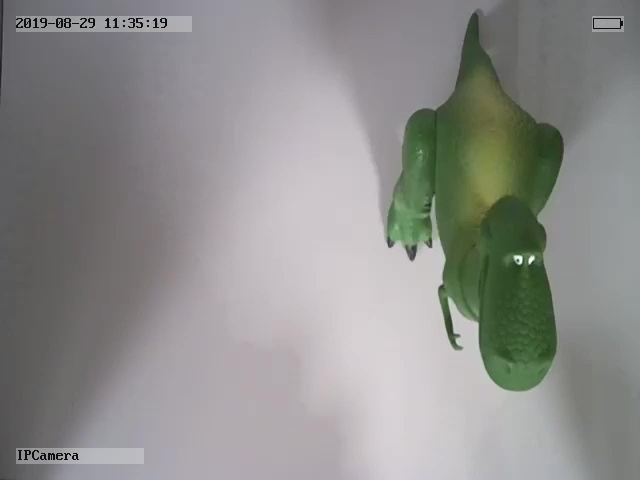rex: (383, 9, 565, 394)
